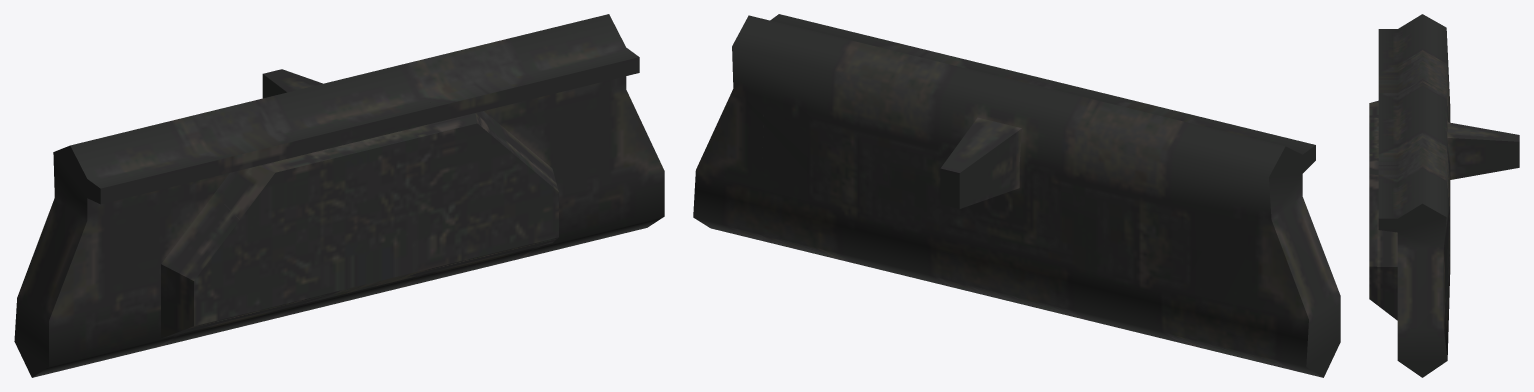
3 views of the same model, side by side, from view 1: azimuth 30°, elevation 25°; view 2: azimuth 150°, elevation 25°; view 3: azimuth 270°, elevation 25° (orthographic). The views are drawn at different scales.
Parts seen in each view (by area): view 1: set_0_group_0; view 2: set_0_group_0; view 3: set_0_group_0.
Part boxes in pixels (x1,y1,x2,y2): set_0_group_0: [14, 14, 664, 377]; set_0_group_0: [693, 14, 1340, 377]; set_0_group_0: [1369, 14, 1519, 377].
Size of the model in its own units: 0.6949 by 0.2408 by 0.2036.
Materials: 1 (1 with a texture image).
